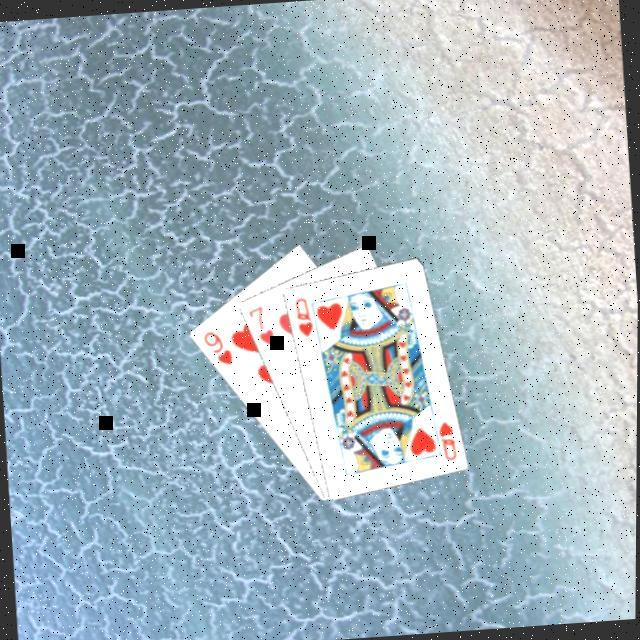7H: (242, 303, 276, 351)
9H: (197, 328, 234, 372)
QH: (426, 414, 458, 466), (288, 294, 314, 342)
